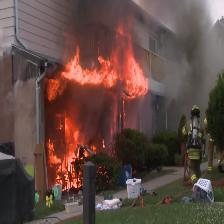fire: (42, 26, 154, 207)
